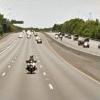Motorcycle: (20, 51, 42, 80)
